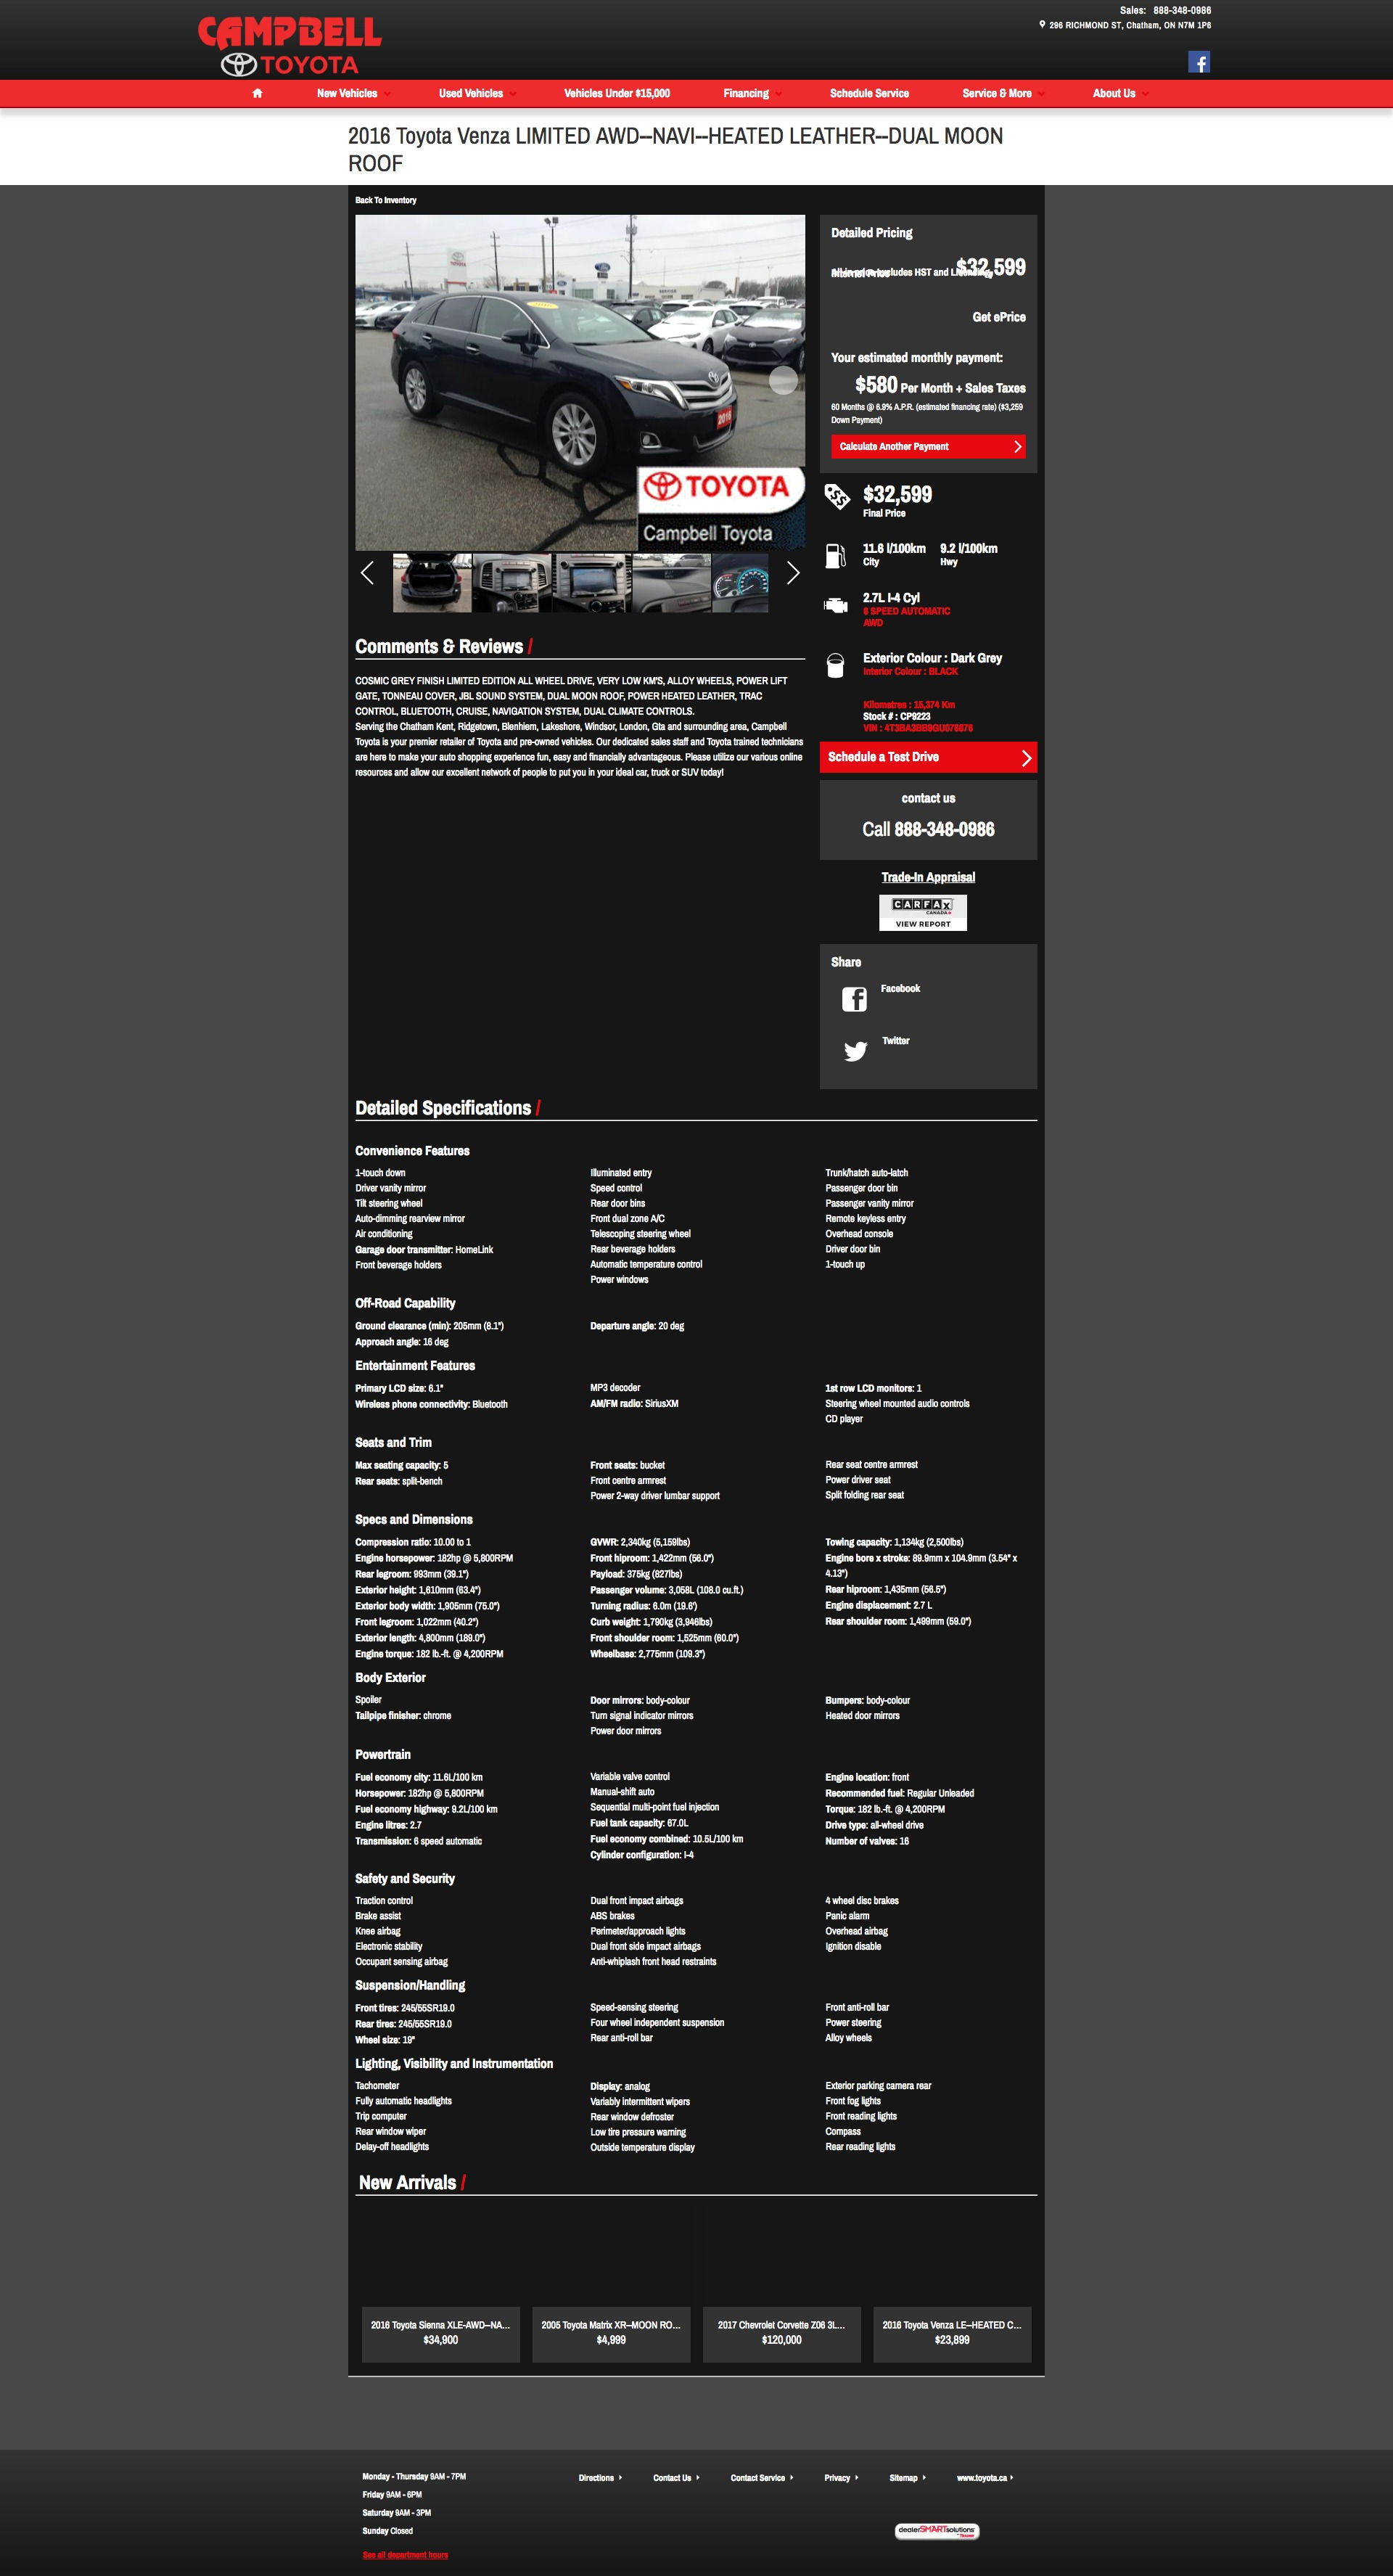car: (784, 557, 803, 590)
